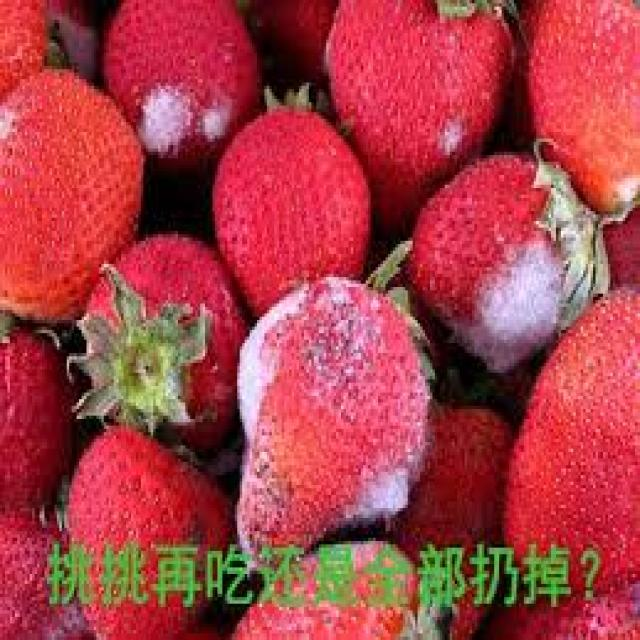organic waste: (232, 238, 432, 568), (405, 135, 638, 373), (321, 0, 514, 234), (62, 228, 250, 465), (502, 284, 638, 594), (203, 73, 373, 300), (62, 412, 230, 637), (0, 56, 141, 317), (383, 379, 514, 637), (99, 0, 257, 181), (509, 0, 638, 218), (228, 534, 452, 637), (0, 314, 69, 512), (0, 501, 77, 637), (477, 577, 637, 637), (252, 0, 331, 89), (0, 0, 64, 96), (596, 195, 638, 287)
